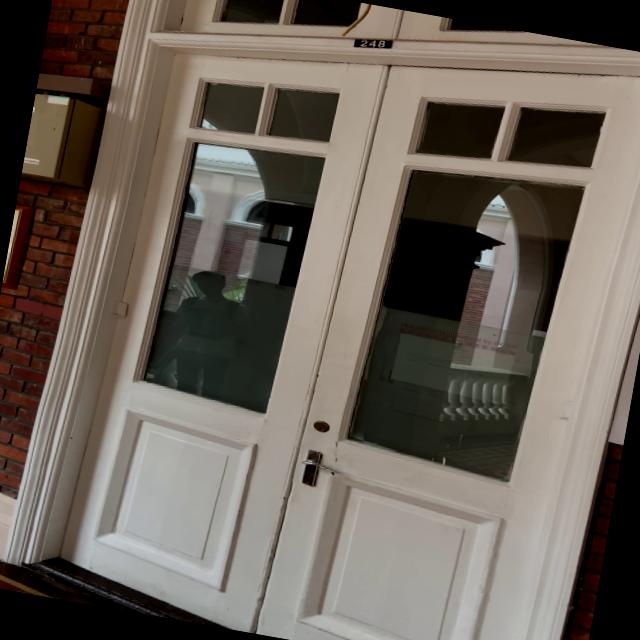room248: (348, 31, 394, 55)
